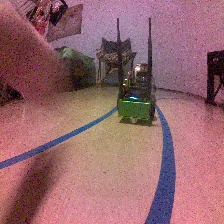rob: (116, 65, 156, 125)
